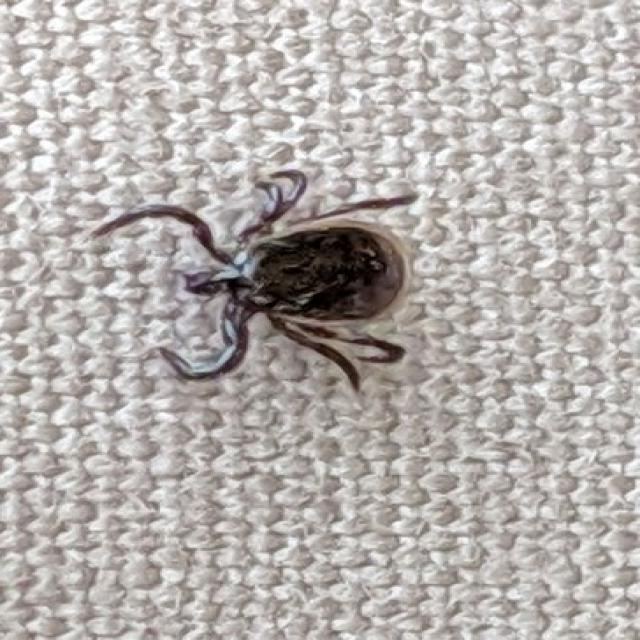Ixodes Ricinus-M: (91, 169, 418, 390)
